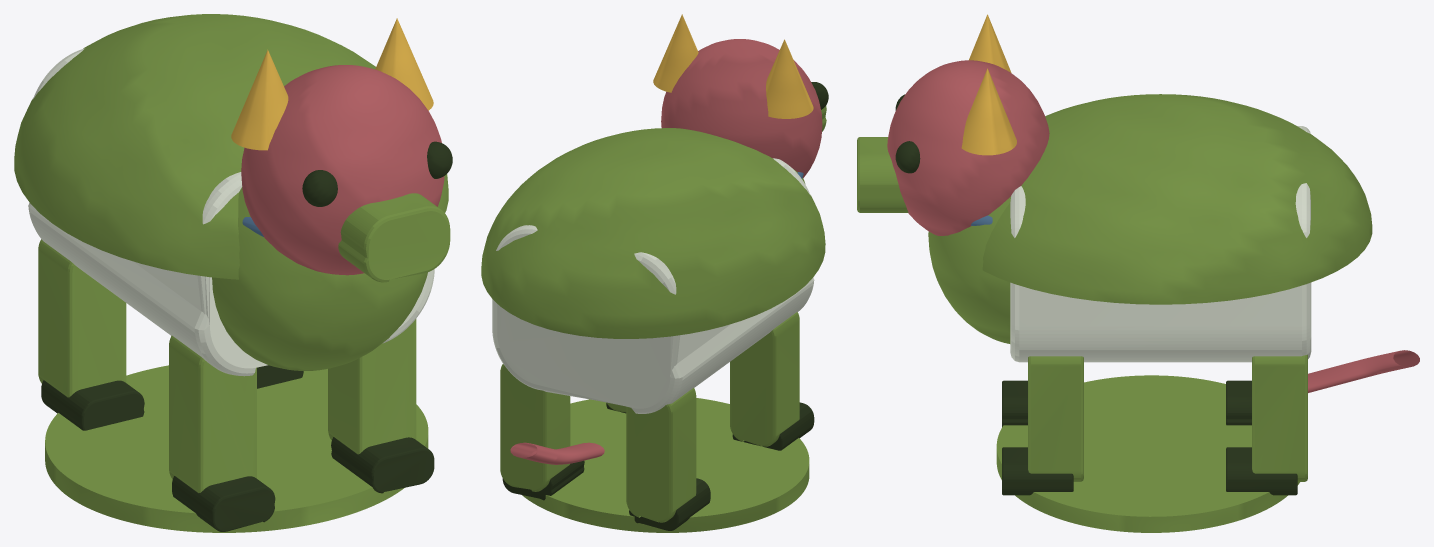
File: 1304_爬行动物图鉴_棱皮龟.glb
The picture shows the model from 3 angles, left to right: view 1: azimuth 30°, elevation 25°; view 2: azimuth 150°, elevation 25°; view 3: azimuth 270°, elevation 25°; orthographic projection. The views are drawn at different scales.
Parts seen in each view (by area): view 1: card_1304; view 2: card_1304; view 3: card_1304.
Part boxes in pixels (x1,y1,x2,y2): card_1304: [14, 14, 452, 532]; card_1304: [481, 14, 828, 532]; card_1304: [857, 14, 1419, 532].
Size of the model in its own units: 0.7623 by 1 by 1.21.
